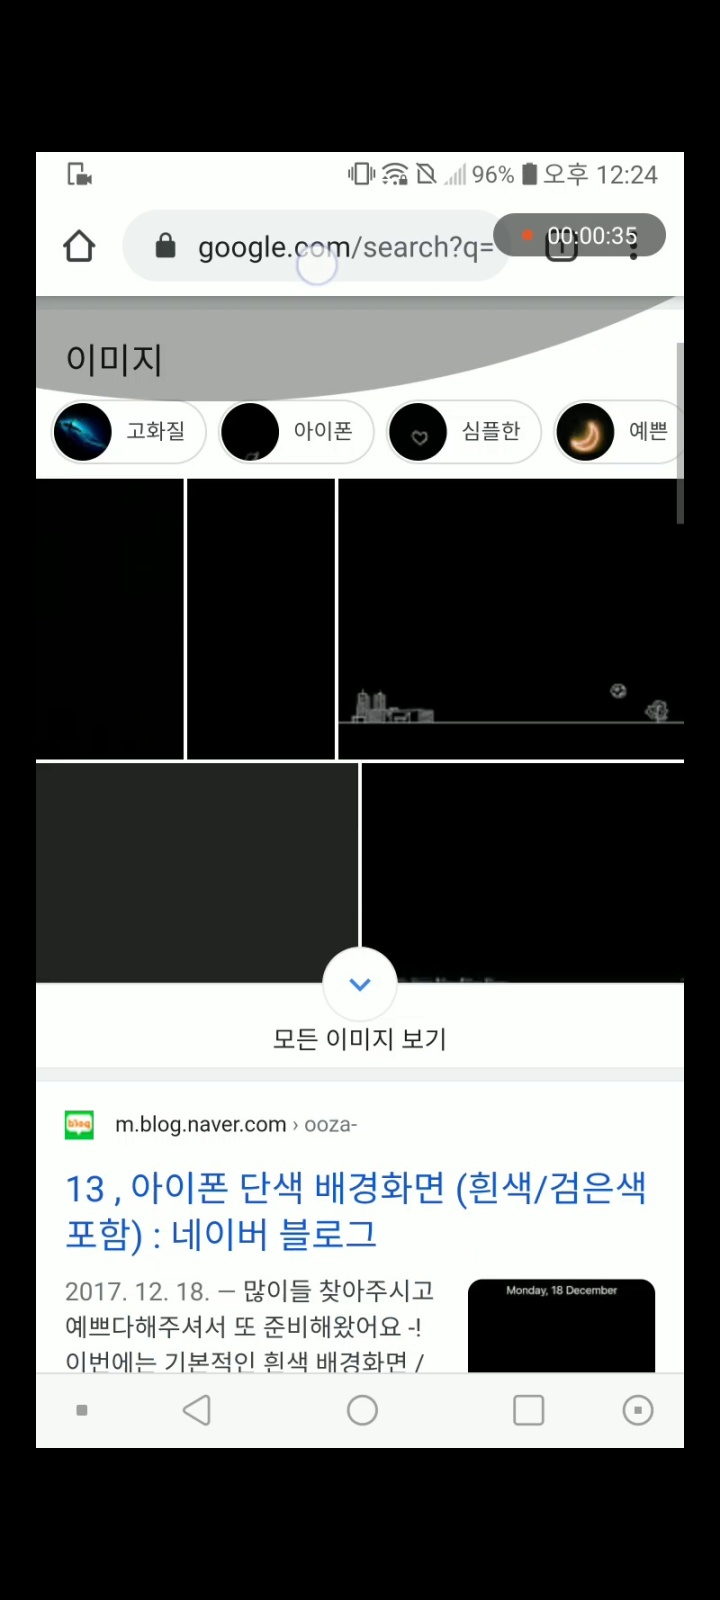Cursor: (296, 242, 341, 287)
